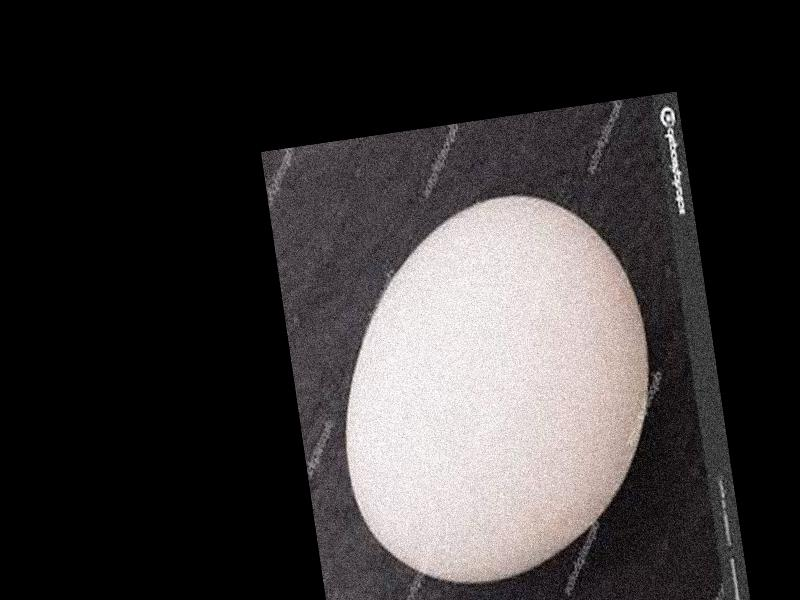Eggs: (315, 180, 677, 598)
